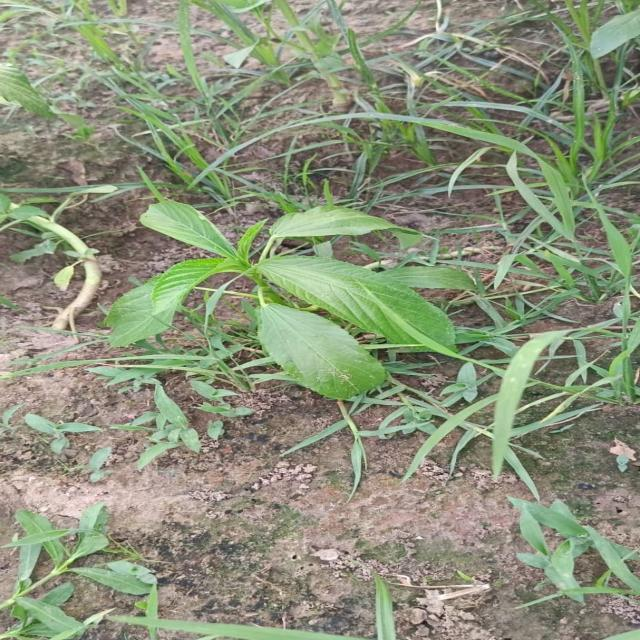plant: (106, 201, 471, 399)
